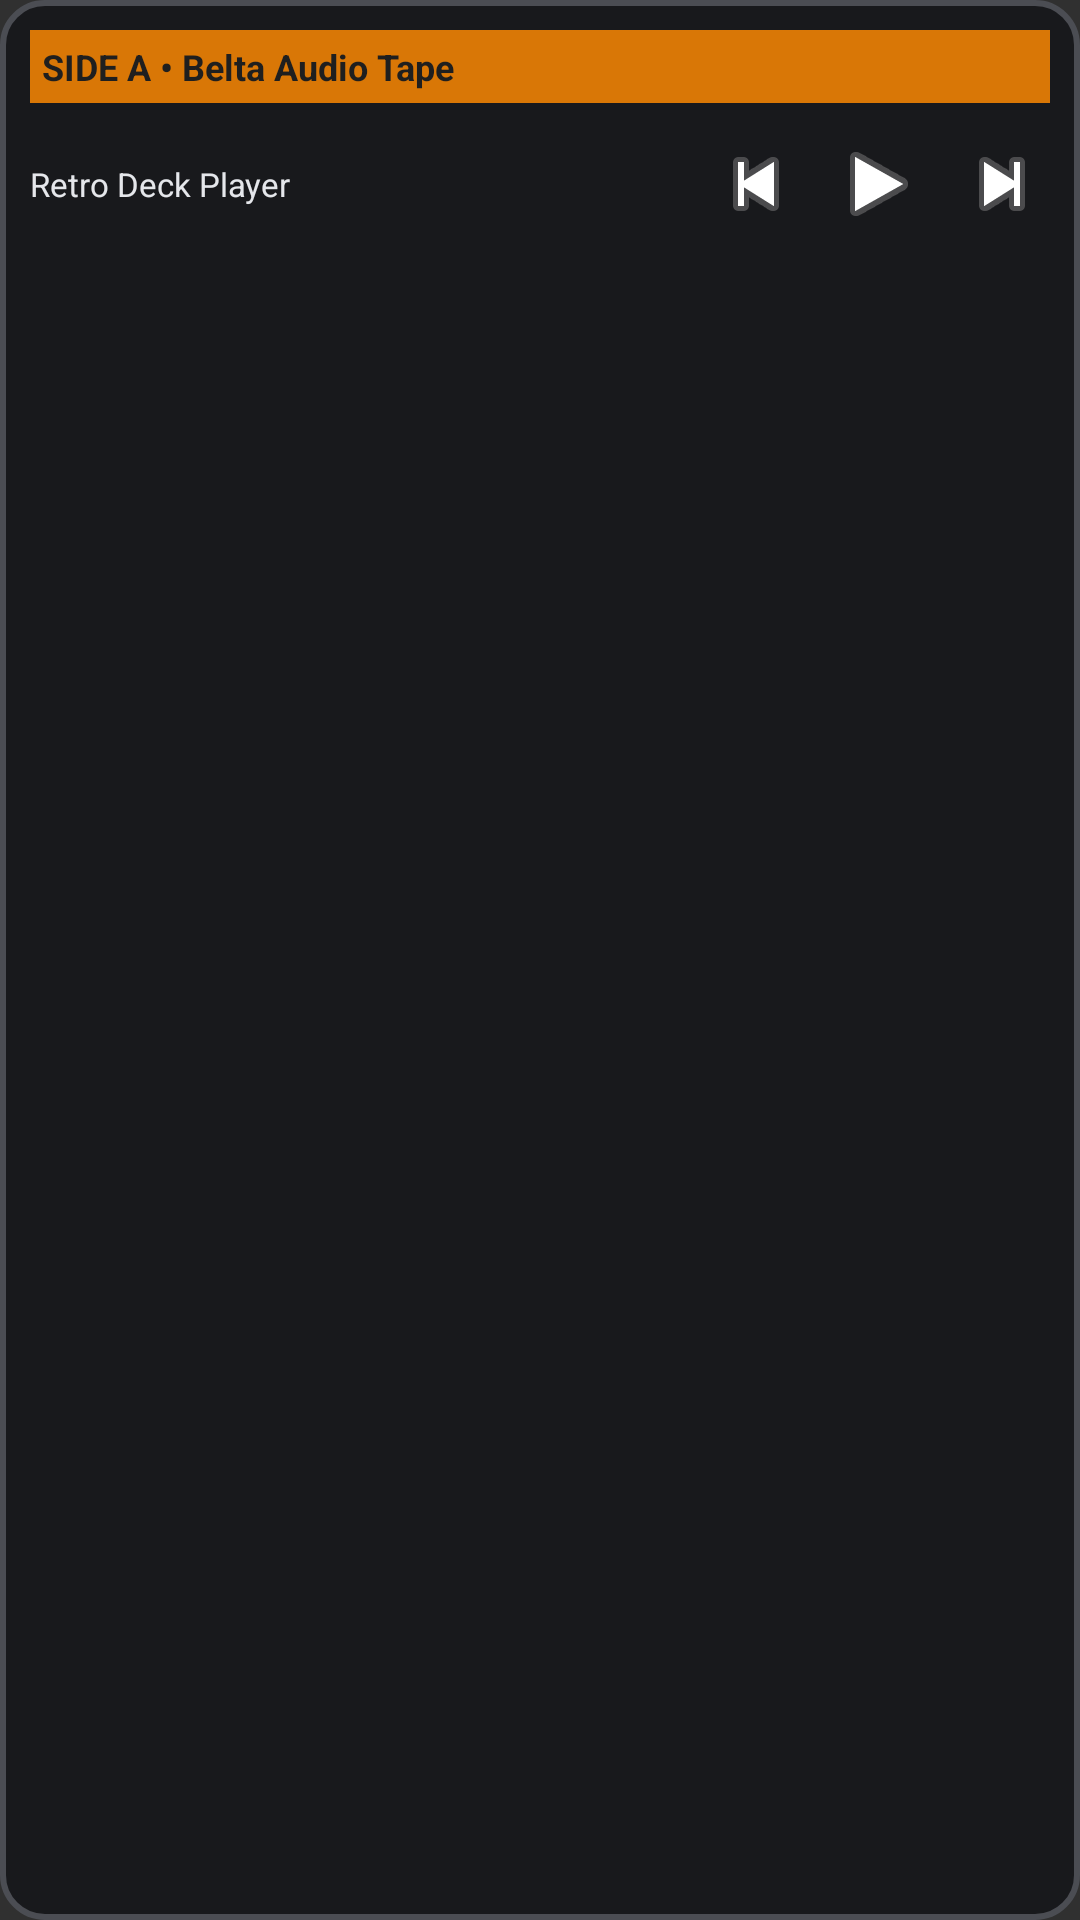

Locate icon controls on the screen. Image size 1080×1920, boxes as (x1, y1, x2, y2).
Next: (979, 157, 1025, 211)
Play/Pause: (850, 152, 908, 216)
Previous: (733, 157, 779, 211)
